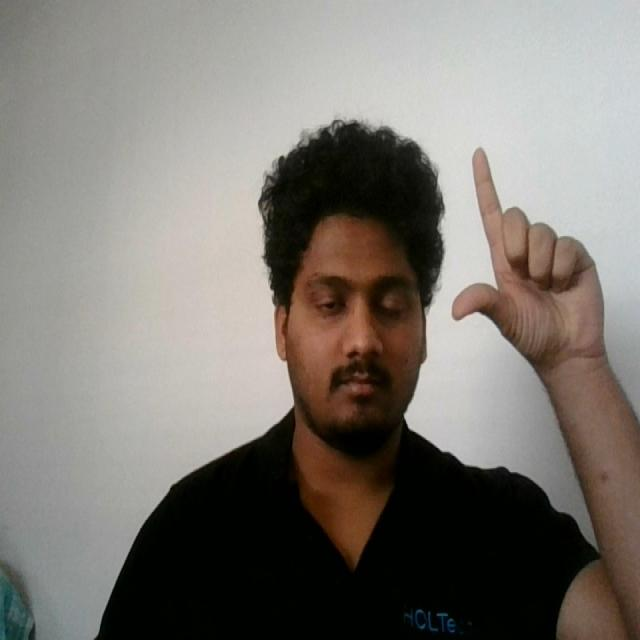IloveYou: (447, 138, 625, 384)
